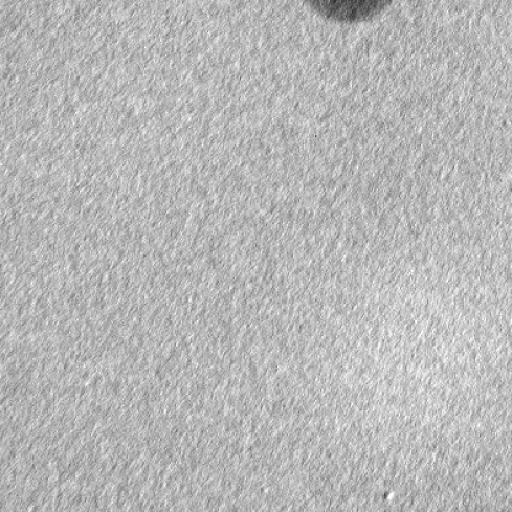Nanoparticles: (302, 0, 398, 26)
